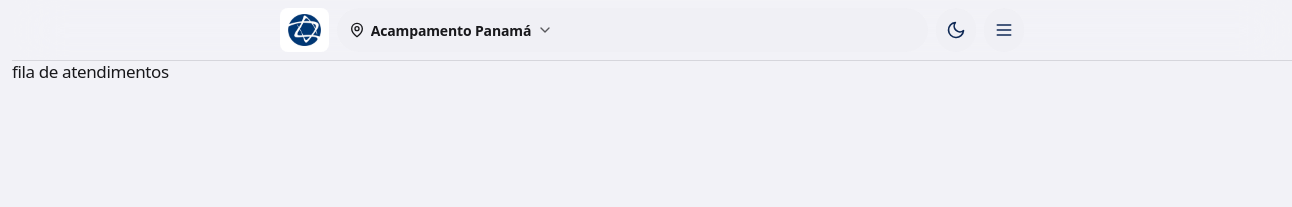
Troca de missão pelo cabeçalho › troca de base sem sair da fila
Expected: the text "fila de atendimentos" is shown, [12,60,169,83]
Click the button with aria-label "Trocar base": click(451, 30) [337,8,928,52]
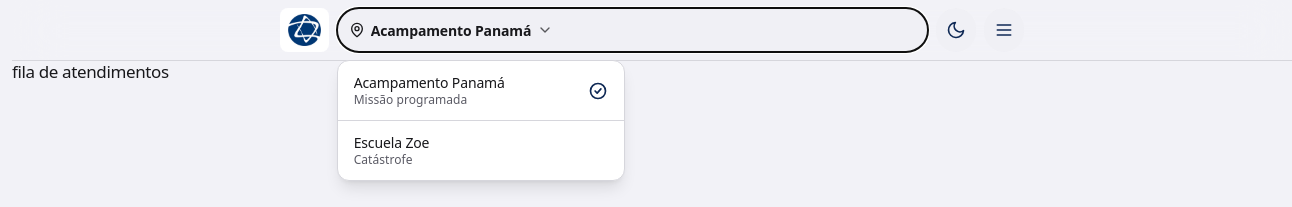
Click the menu item "Escuela Zoe Catástrofe": click(392, 142) [338,121,624,180]
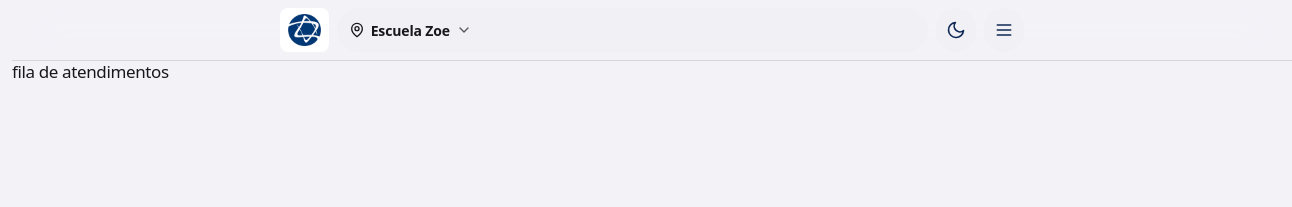
Expected: the text "fila de atendimentos" is shown, [12,60,169,83]
Result: the button with aria-label "Trocar base" reads "Escuela Zoe" at [337,8,928,52]
